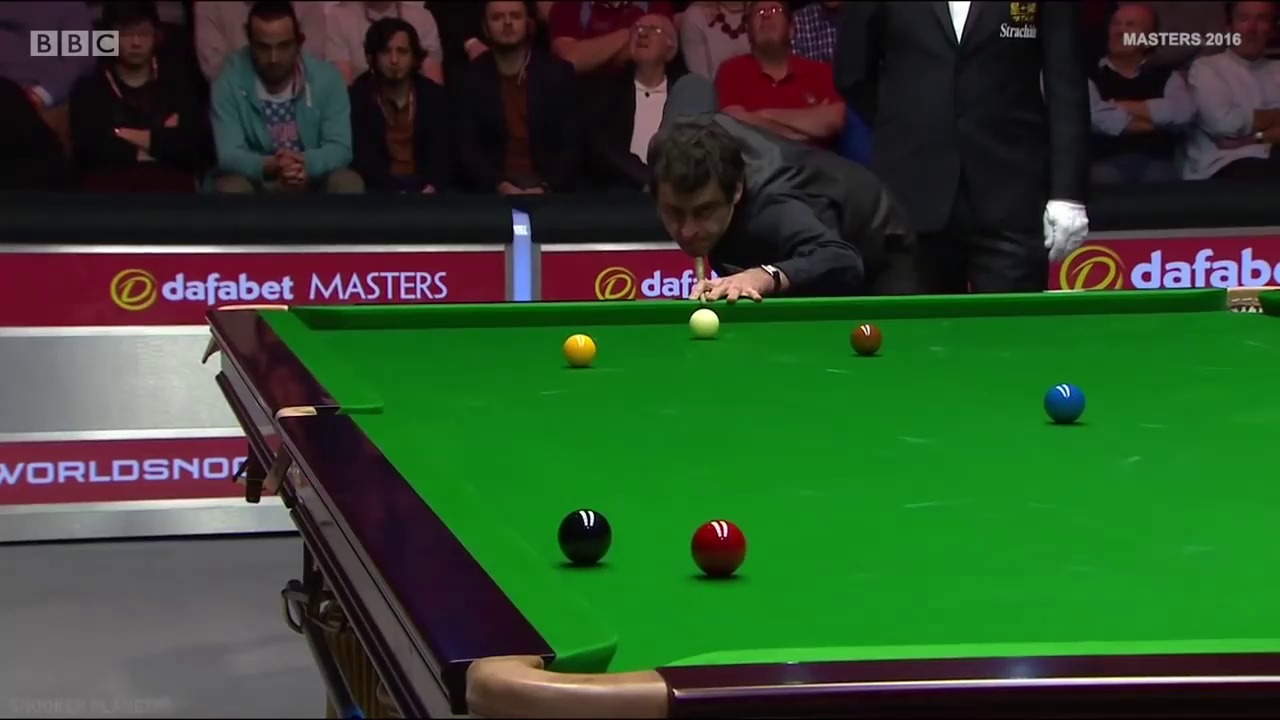ball: (690, 519, 748, 574), (555, 509, 613, 562), (1045, 379, 1083, 423), (564, 328, 597, 365), (850, 321, 881, 353), (688, 310, 719, 337)
